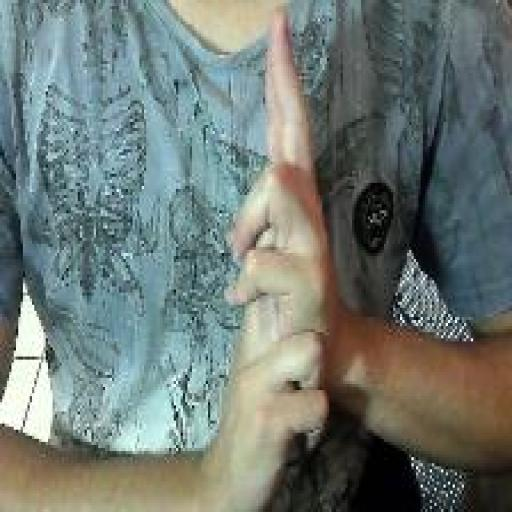Hitsuji -ram-: (219, 3, 334, 509)
